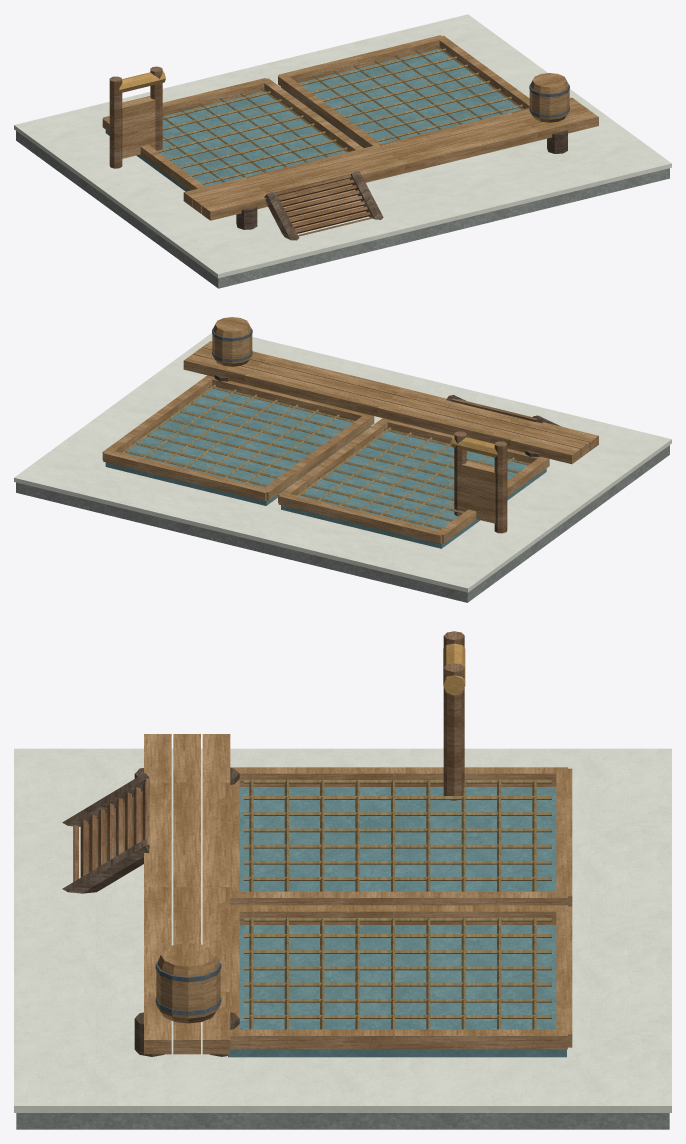
Rendered from BLD_FISHERY.glb.
The picture shows the model from 3 angles, top to bottom: view 1: azimuth 30°, elevation 25°; view 2: azimuth 150°, elevation 25°; view 3: azimuth 270°, elevation 25°; orthographic projection. The views are drawn at different scales.
Visible parts, largest first — view 1: BLD_FISHERY; view 2: BLD_FISHERY; view 3: BLD_FISHERY.
Boxes of the visible parts, x1,y1,x2,y2 form: BLD_FISHERY: [14, 14, 671, 288]; BLD_FISHERY: [14, 317, 671, 602]; BLD_FISHERY: [14, 631, 671, 1129].
Size of the model in its own units: 6.84 by 1.48 by 5.32.
Materials: 9 (9 with a texture image).
